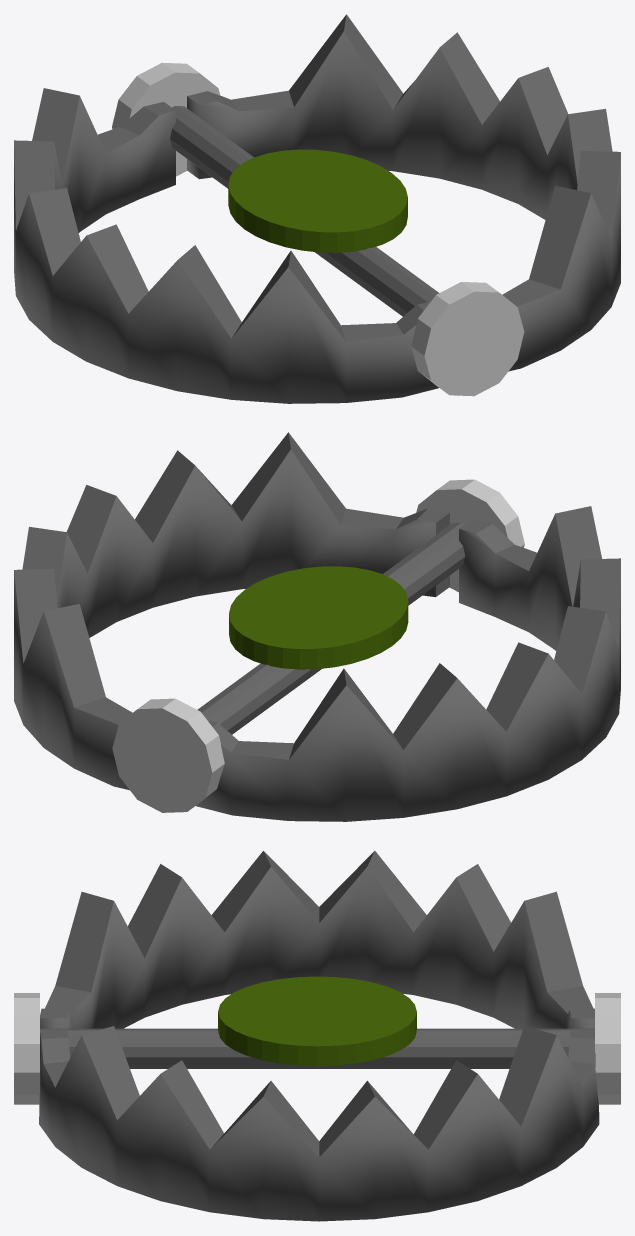
The model's file is trap.fbx.
3 renders of one model, top to bottom at view 1: azimuth 30°, elevation 25°; view 2: azimuth 150°, elevation 25°; view 3: azimuth 270°, elevation 25°, orthographic. The views are drawn at different scales.
Visible parts, largest first — view 1: trap, trap2, base; view 2: trap, trap2, base; view 3: trap2, trap, base.
Part boxes in pixels (left/top/right/bottom): trap: left=14, top=88, right=438, bottom=403; trap2: left=187, top=14, right=620, bottom=371; base: left=112, top=62, right=524, bottom=396; trap: left=196, top=506, right=620, bottom=821; trap2: left=14, top=432, right=449, bottom=790; base: left=112, top=479, right=524, bottom=812; trap2: left=39, top=1026, right=599, bottom=1221; trap: left=40, top=851, right=594, bottom=1028; base: left=14, top=976, right=620, bottom=1104.
Bounding box in the file's own units: 83.15 × 21.09 × 85.05.
